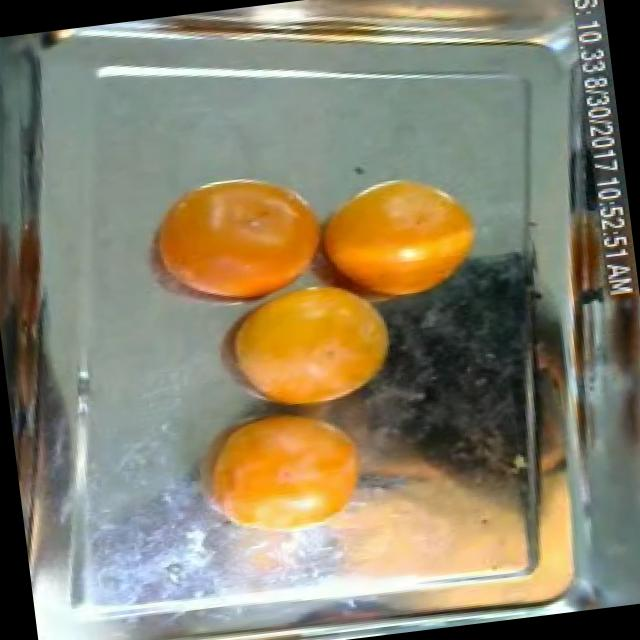Fruit: (118, 154, 345, 322), (166, 382, 387, 554), (196, 264, 418, 428), (300, 158, 498, 322)
